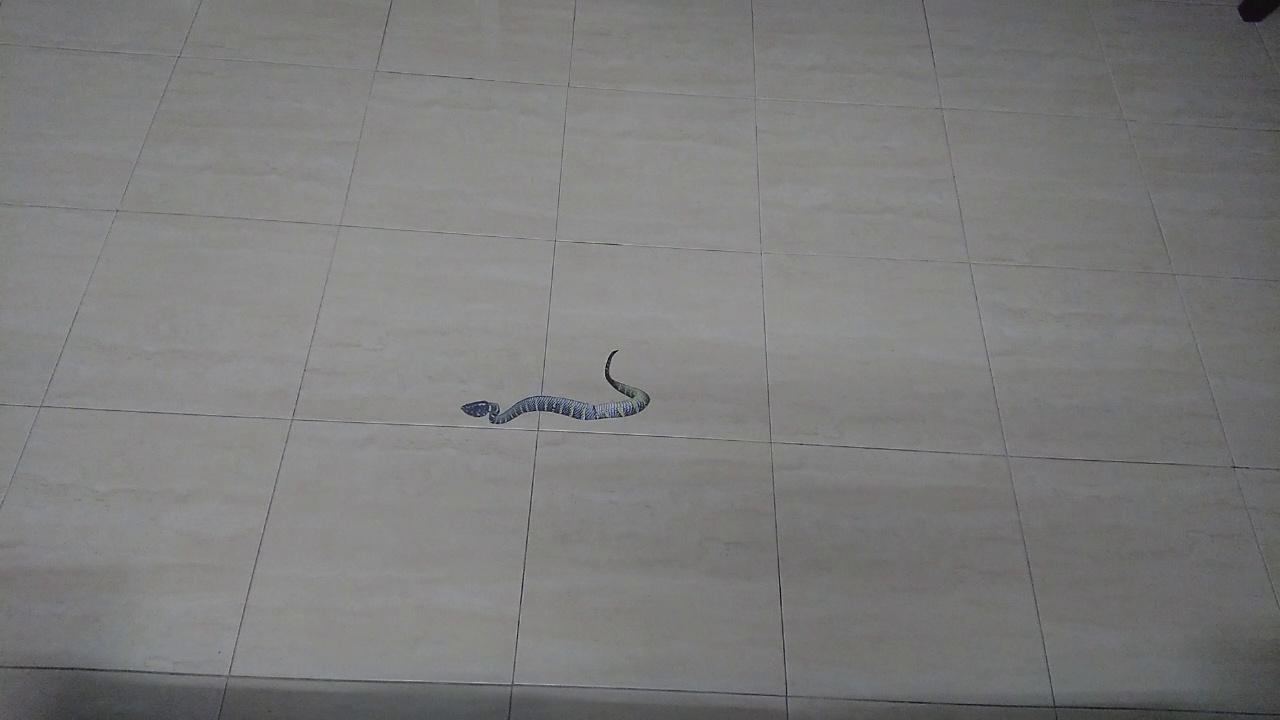snake: (440, 339, 666, 436)
